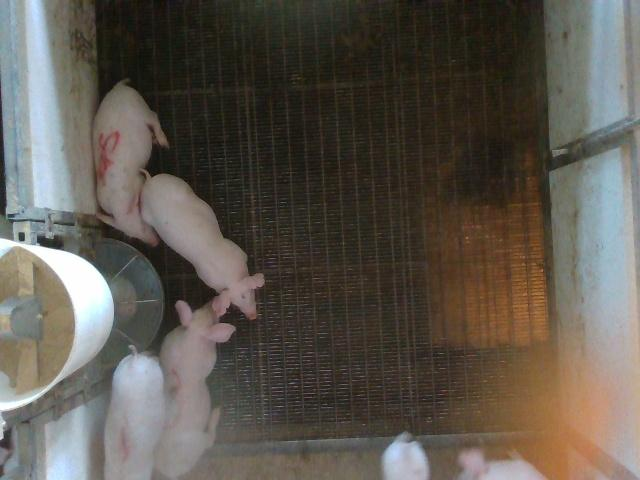pig-1: (104, 345, 165, 479)
pig-3: (155, 302, 236, 479)
pig-5: (94, 80, 169, 246)
